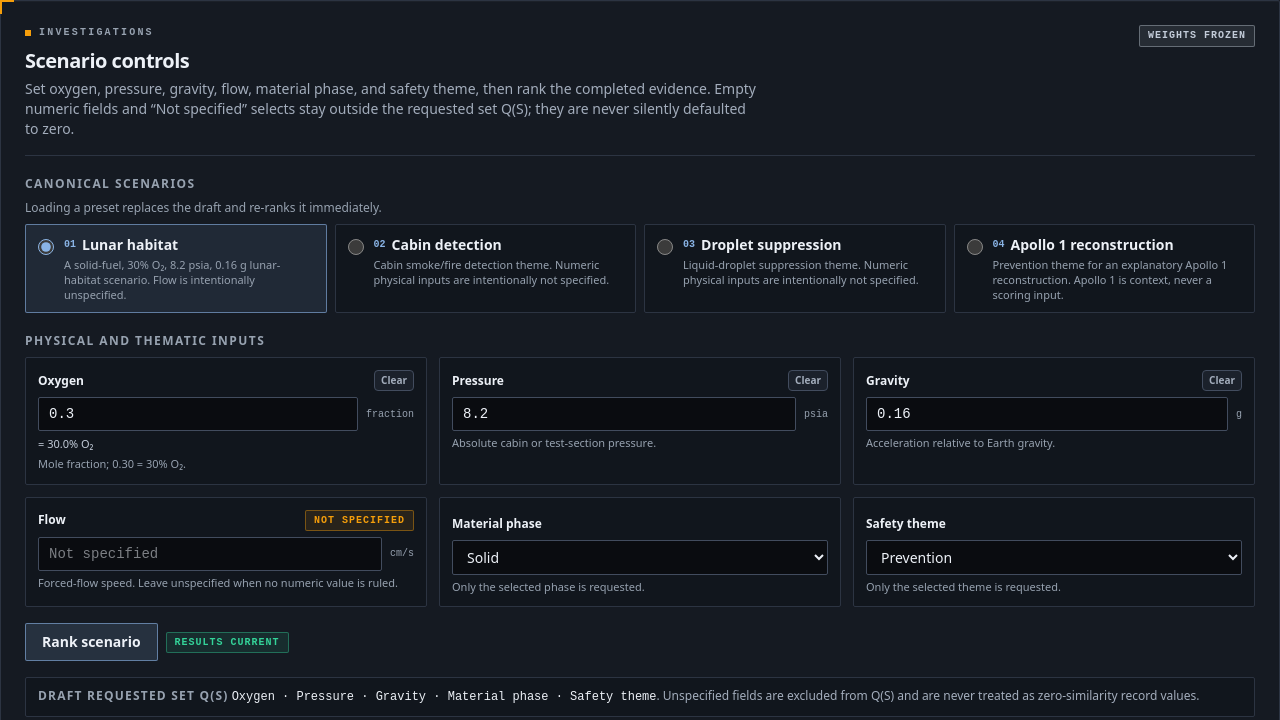
Scenario: Canonical scenario end-to-end flow › Scenario B: SAME-R appears as detection evidence; DAFT stays instrument context
expect the radio button labelled "Lunar habitat" is shown: met, box [38,238,54,254]
Step 1. Click the radio button labelled "Cabin detection" → (356, 246), box [348,238,364,254]
(page scrolled)
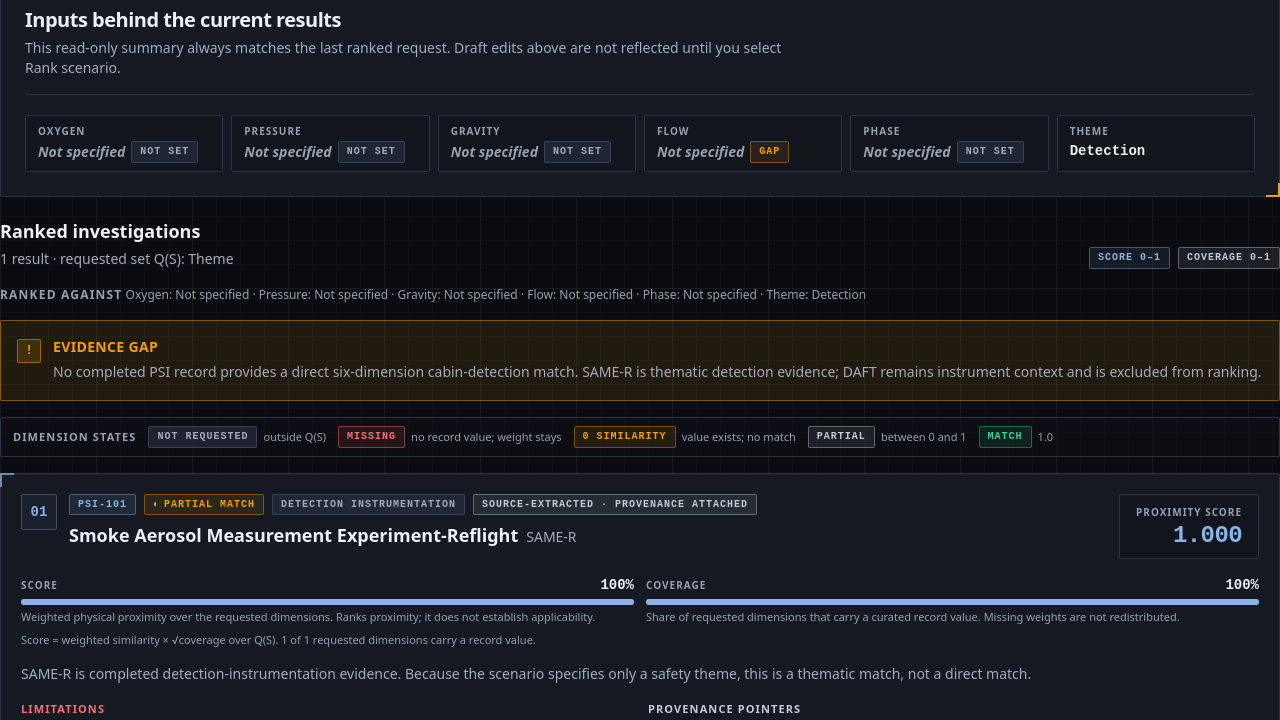
expect the element "Evidence gap" shows "SAME-R is thematic detection evidence": met, box [53,362,1262,381]
expect the element "Evidence gap" shows "DAFT remains instrument context": met, box [53,362,1262,381]
